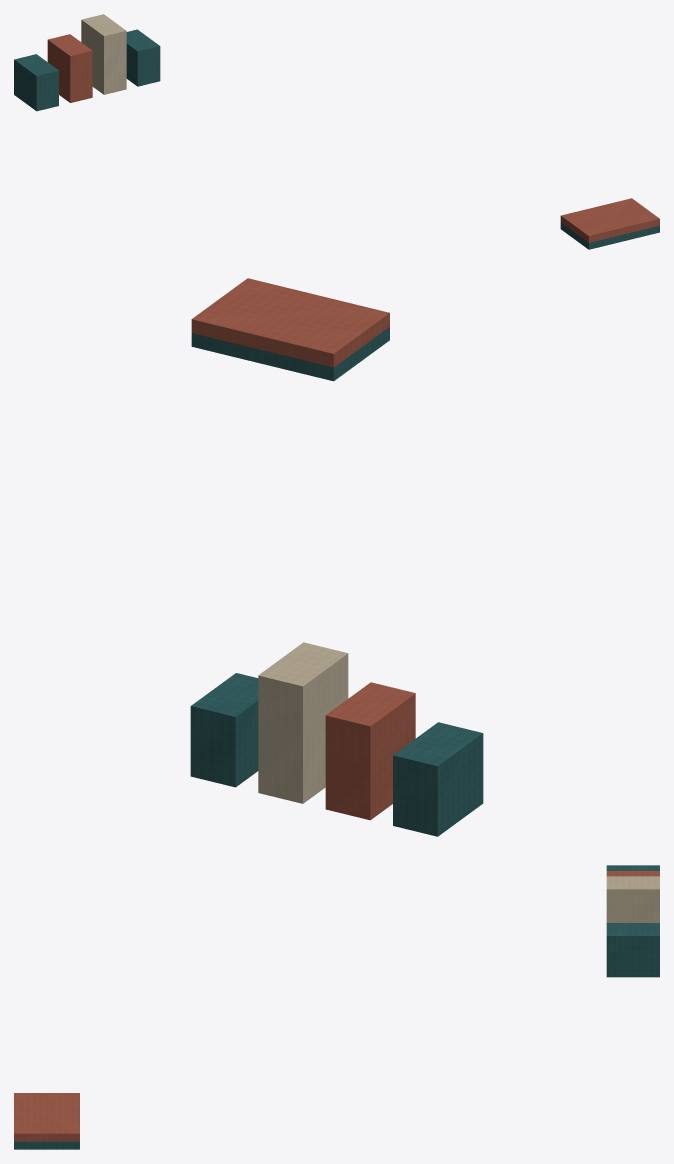
The model's file is detail_props.glb.
3 renders of one model, top to bottom at view 1: azimuth 30°, elevation 25°; view 2: azimuth 150°, elevation 25°; view 3: azimuth 270°, elevation 25°, orthographic. The views are drawn at different scales.
Visible parts, largest first — view 1: SUI_DeskBook_2, SUI_TableBook_1, SUI_DeskBook_1, SUI_DeskBook_0, SUI_DeskBook_3, SUI_TableBook_0; view 2: SUI_DeskBook_2, SUI_TableBook_1, SUI_DeskBook_1, SUI_DeskBook_0, SUI_DeskBook_3, SUI_TableBook_0; view 3: SUI_TableBook_1, SUI_DeskBook_3, SUI_DeskBook_2, SUI_TableBook_0.
Part boxes in pixels (<box>): SUI_DeskBook_2: <box>81,14,126,94</box>; SUI_TableBook_1: <box>560,198,659,242</box>; SUI_DeskBook_1: <box>47,34,92,102</box>; SUI_DeskBook_0: <box>14,54,58,111</box>; SUI_DeskBook_3: <box>126,29,160,86</box>; SUI_TableBook_0: <box>560,222,659,249</box>; SUI_DeskBook_2: <box>258,642,348,803</box>; SUI_TableBook_1: <box>191,278,389,367</box>; SUI_DeskBook_1: <box>325,682,415,820</box>; SUI_DeskBook_0: <box>393,722,483,836</box>; SUI_DeskBook_3: <box>190,673,258,787</box>; SUI_TableBook_0: <box>191,327,389,381</box>; SUI_TableBook_1: <box>14,1093,79,1141</box>; SUI_DeskBook_3: <box>606,923,659,977</box>; SUI_DeskBook_2: <box>606,876,659,922</box>; SUI_TableBook_0: <box>14,1141,79,1149</box>.
Size of the model in its own units: 1.98 by 0.435 by 2.55.
Materials: 3 (3 with a texture image).
